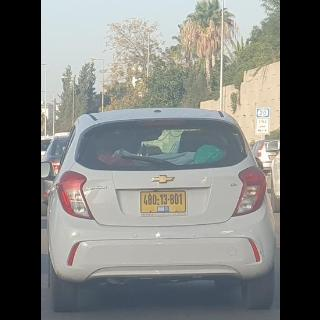LicensePlate: (140, 192, 184, 206)
